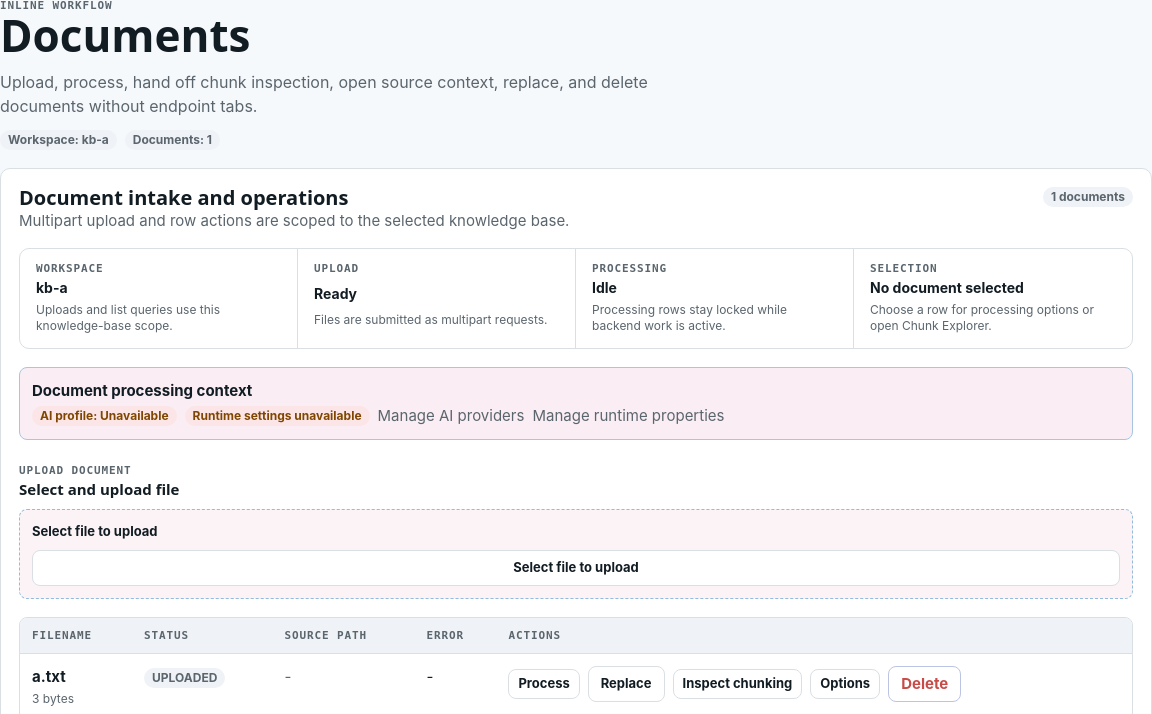
documents page › shows overwrite-specific message for a process conflict
Click the button "Process" at (544,684), box x1=508 y1=669 x2=580 y2=699
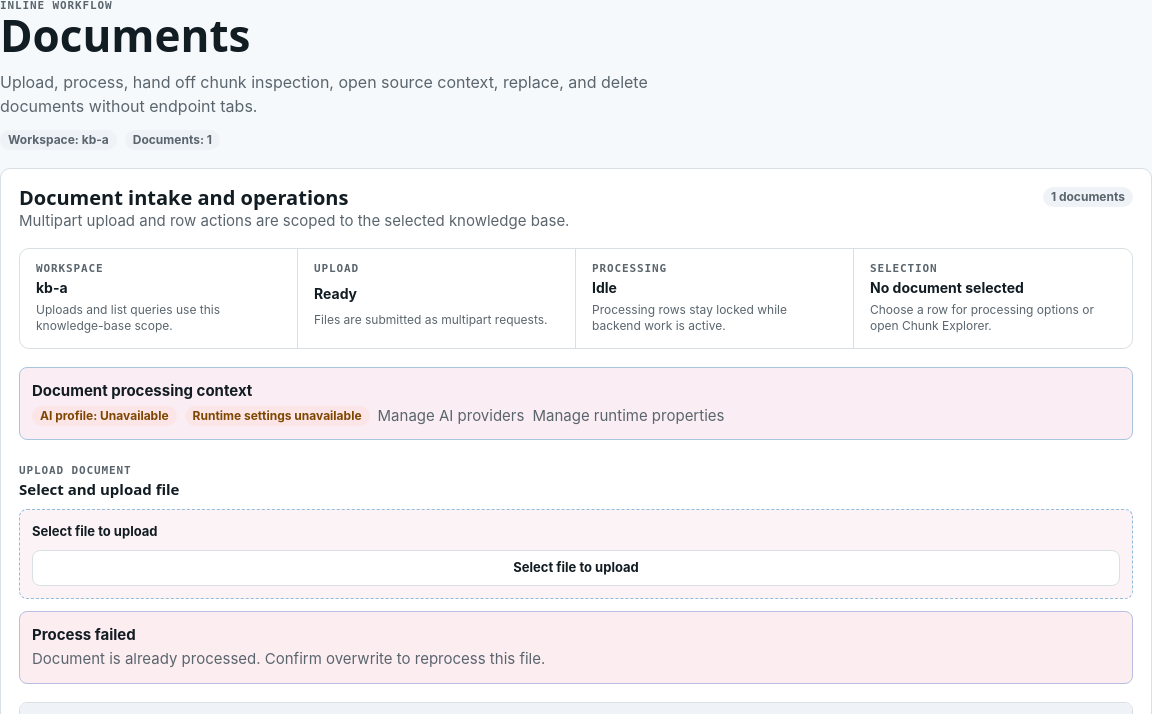
Now the text "Document is already processed. Confirm overwrite to reprocess this file." is shown, box x1=32 y1=649 x2=545 y2=668
